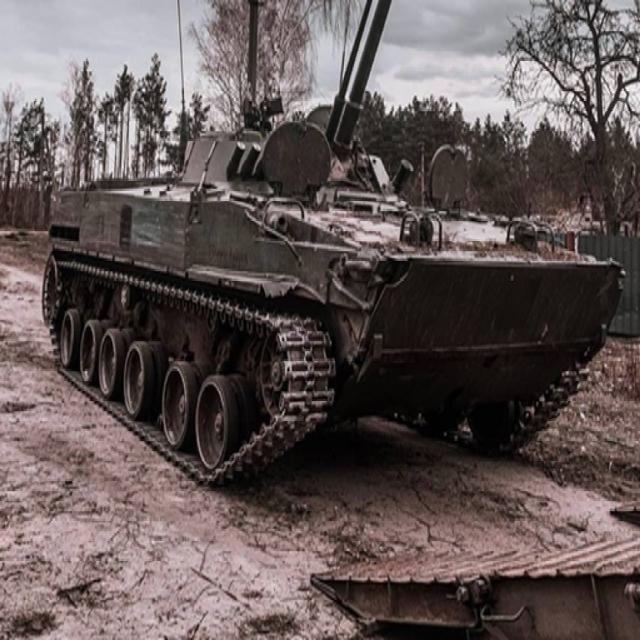APC-IFV: (35, 2, 630, 498)
